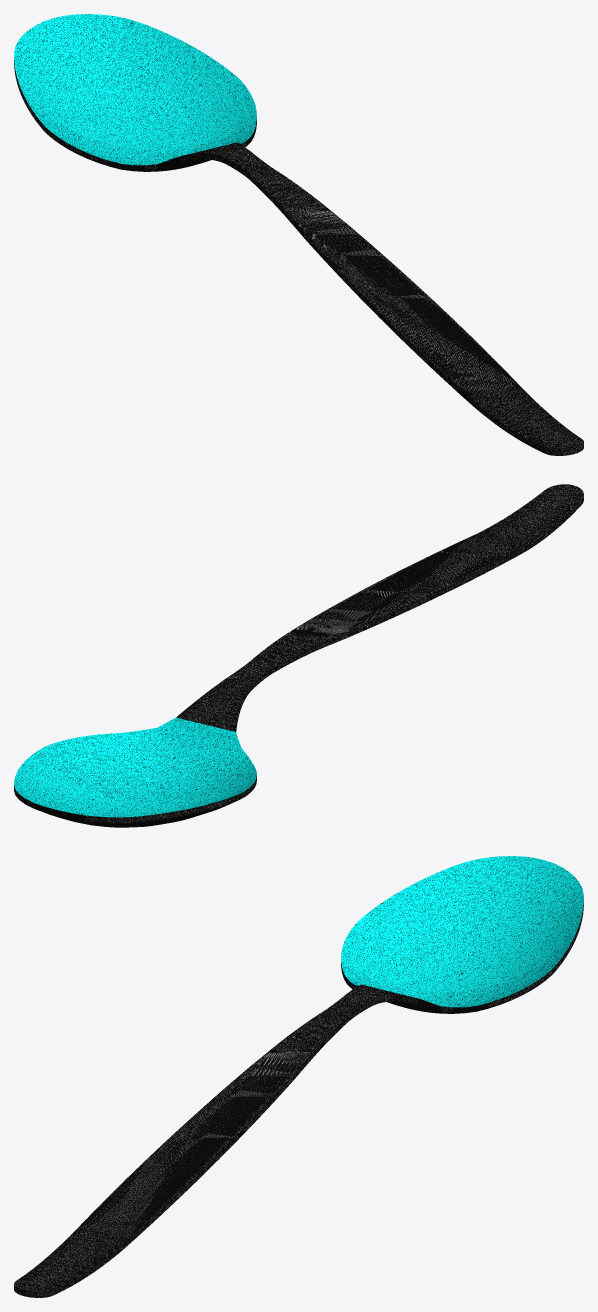
Rendered from spoon_03_origin_gt_3.dae.
3 renders of one model, top to bottom at view 1: azimuth 30°, elevation 25°; view 2: azimuth 150°, elevation 25°; view 3: azimuth 330°, elevation 25°, orthographic.
Visible parts, largest first — view 1: Lepel (×4); view 2: Lepel (×4); view 3: Lepel (×4).
Boxes of the visible parts, x1,y1,x2,y2 form: Lepel (×4): (14,14,583,455); Lepel (×4): (14,484,583,827); Lepel (×4): (14,856,583,1297).
Size of the model in its own units: 1.65 by 7.6 by 0.5192.
